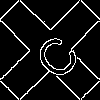C: (25, 25, 83, 83)
